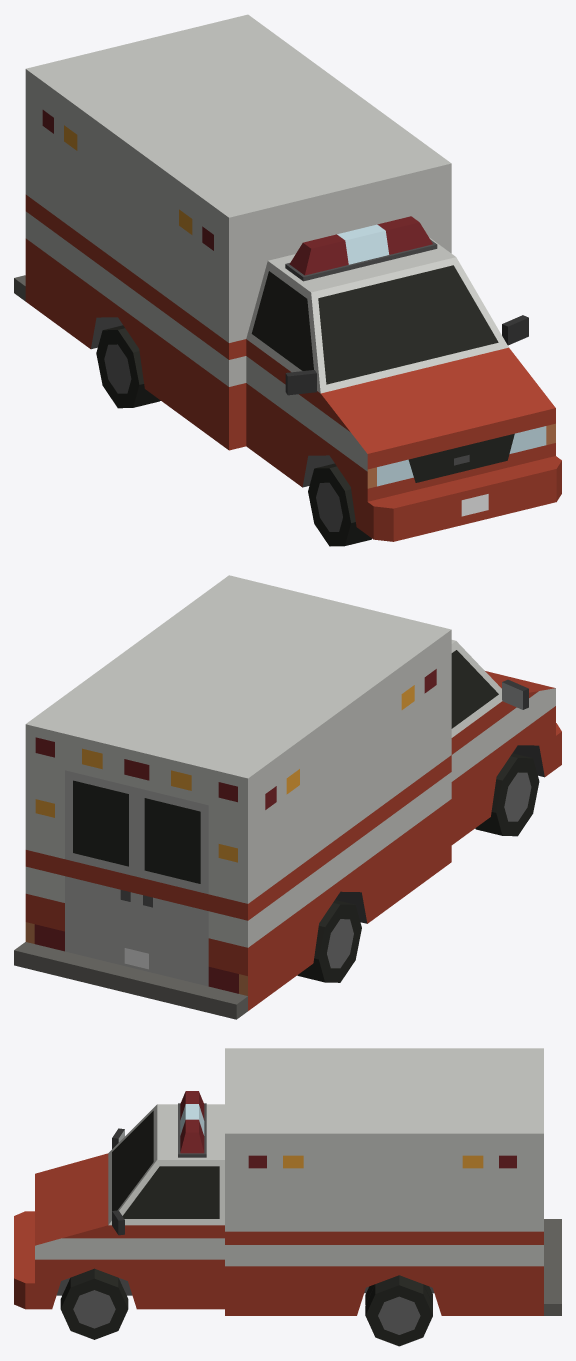
File: Veh_Ambulance.obj
The picture shows the model from 3 angles, top to bottom: view 1: azimuth 30°, elevation 25°; view 2: azimuth 150°, elevation 25°; view 3: azimuth 270°, elevation 25°; orthographic projection. The views are drawn at different scales.
Bounding box in the file's own units: 1.48 × 1.59 × 3.71.
